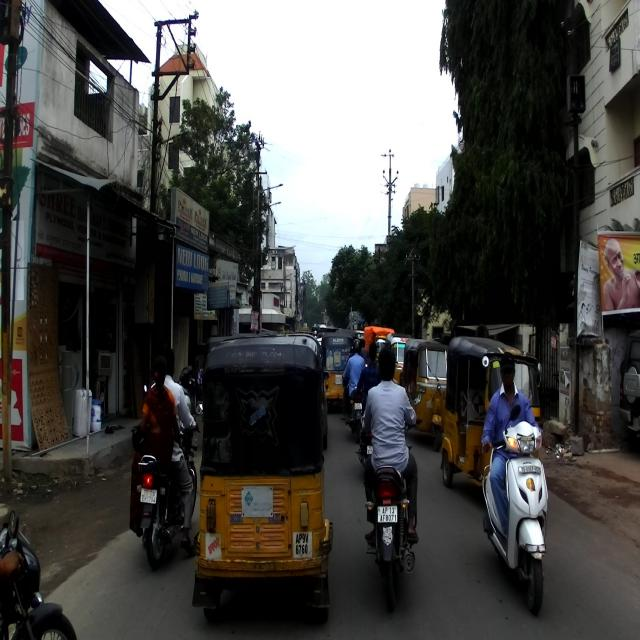autorickshaw: (190, 337, 334, 628), (439, 334, 544, 489), (402, 338, 449, 450)
motorcycle: (363, 389, 422, 612), (136, 401, 203, 571), (0, 508, 76, 638)
scooter: (481, 404, 549, 616)
